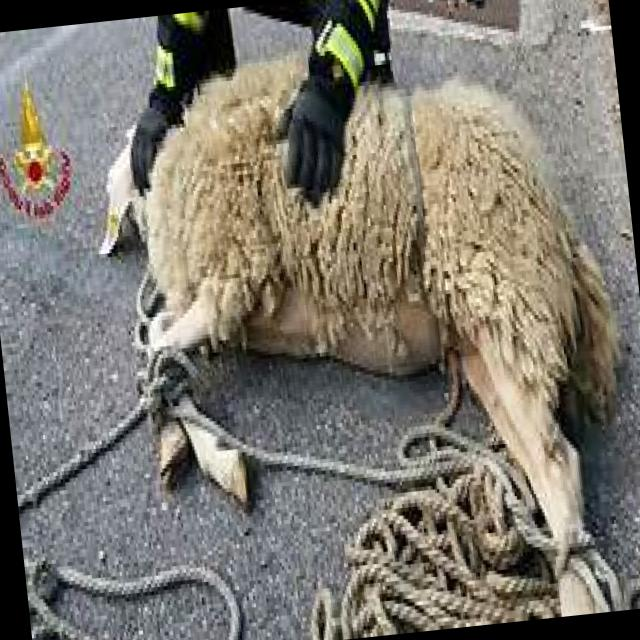animal: (80, 28, 640, 632)
